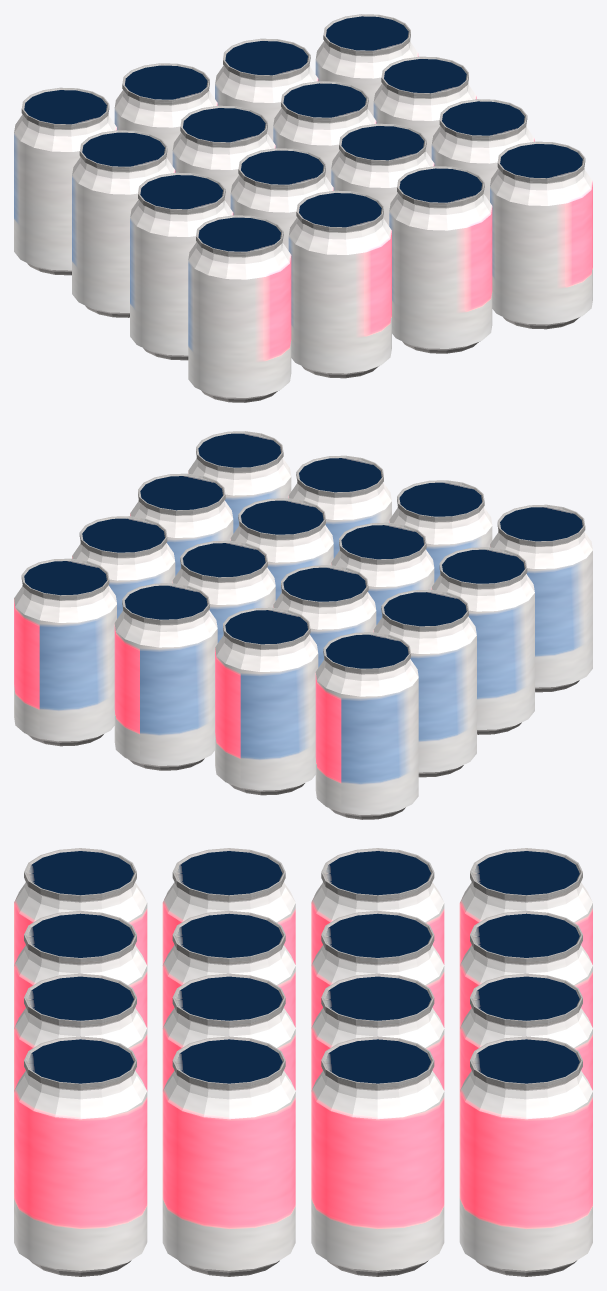
File: Blue_SodaCan.fbx
The picture shows the model from 3 angles, top to bottom: view 1: azimuth 30°, elevation 25°; view 2: azimuth 150°, elevation 25°; view 3: azimuth 270°, elevation 25°; orthographic projection. The views are drawn at different scales.
Parts seen in each view (by area): view 1: BlueSoda_can5; view 2: BlueSoda_can5; view 3: BlueSoda_can5.
Boxes of the visible parts, x1,y1,x2,y2 form: BlueSoda_can5: [14, 14, 592, 402]; BlueSoda_can5: [14, 431, 592, 819]; BlueSoda_can5: [14, 848, 592, 1276].
Size of the model in its own units: 38.96 by 14.45 by 38.96.
